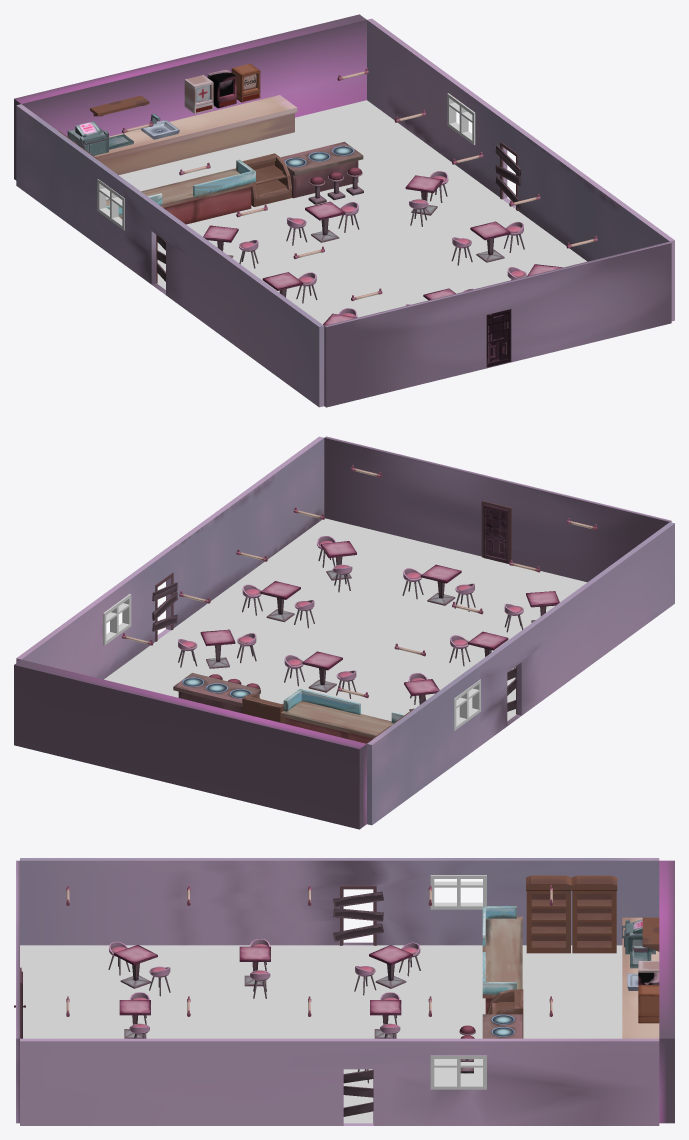
File: кофейня с текстурами.fbx
3 views of the same model, one above another, from view 1: azimuth 30°, elevation 25°; view 2: azimuth 150°, elevation 25°; view 3: azimuth 270°, elevation 25° (orthographic). The views are drawn at different scales.
Parts seen in each view (by area): view 1: wall1, wall2, floor, pedestal, bar1, bar2, windowP, showcase, door, lamp.001, bake, shop1.001 (+6 smaller); view 2: wall2, wall1, floor, bar1, windowP, bar2, door, lamp.001, showcase, Circle.023, стол, Circle.017 (+2 smaller); view 3: wall1, floor, warehouse, wall2, bar1, windowP, pedestal, bake, Circle.026, Circle.005, showcase, shop1.002 (+9 smaller).
Boxes of the visible parts, x1=… form: wall1: x1=16, y1=18, x2=674, y2=407; wall2: x1=14, y1=14, x2=671, y2=407; floor: x1=106, y1=100, x2=586, y2=324; pedestal: x1=94, y1=95, x2=297, y2=175; bar1: x1=106, y1=159, x2=255, y2=224; bar2: x1=280, y1=141, x2=363, y2=198; windowP: x1=97, y1=93, x2=475, y2=230; showcase: x1=242, y1=153, x2=291, y2=206; door: x1=486, y1=309, x2=510, y2=367; lamp.001: x1=122, y1=68, x2=597, y2=300; bake: x1=67, y1=121, x2=133, y2=155; shop1.001: x1=184, y1=75, x2=213, y2=113; wall2: x1=14, y1=436, x2=671, y2=829; wall1: x1=16, y1=436, x2=674, y2=825; floor: x1=104, y1=518, x2=586, y2=721; bar1: x1=281, y1=689, x2=405, y2=743; windowP: x1=103, y1=594, x2=480, y2=730; bar2: x1=173, y1=673, x2=260, y2=713; door: x1=483, y1=504, x2=508, y2=563; lamp.001: x1=122, y1=465, x2=597, y2=698; showcase: x1=242, y1=693, x2=285, y2=723; Circle.023: x1=421, y1=564, x2=461, y2=605; стол: x1=302, y1=651, x2=342, y2=692; Circle.017: x1=260, y1=581, x2=300, y2=622; wall1: x1=20, y1=858, x2=659, y2=1125; floor: x1=20, y1=945, x2=622, y2=1123; warehouse: x1=526, y1=875, x2=617, y2=953; wall2: x1=16, y1=860, x2=674, y2=1123; bar1: x1=482, y1=906, x2=522, y2=1014; windowP: x1=430, y1=875, x2=486, y2=1089; pedestal: x1=622, y1=917, x2=659, y2=1038; bake: x1=622, y1=917, x2=655, y2=968; Circle.026: x1=114, y1=945, x2=157, y2=988; Circle.005: x1=369, y1=945, x2=412, y2=988; showcase: x1=487, y1=989, x2=523, y2=1038; shop1.002: x1=638, y1=985, x2=659, y2=1023.
Size of the model in its own units: 1394 by 309 by 2119.
23 materials, 19 textured.
